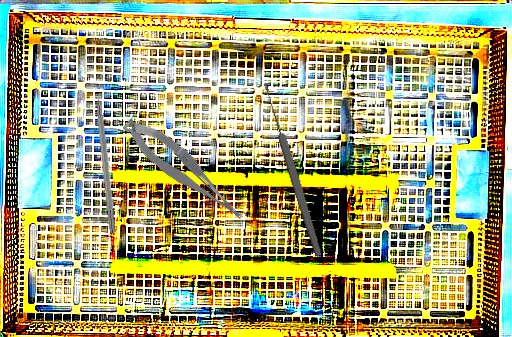Hook Surgical: (93, 81, 118, 234)
Micro Scissor: (118, 106, 249, 236)
Surgical Spoon: (261, 82, 324, 257)
